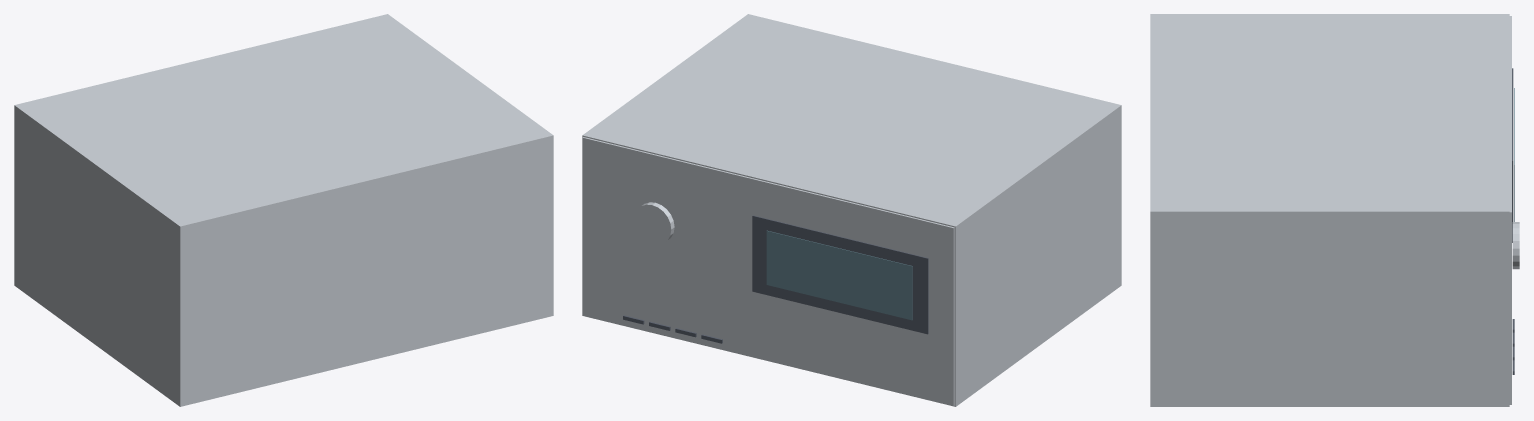
File: wafer.glb
The picture shows the model from 3 angles, left to right: view 1: azimuth 30°, elevation 25°; view 2: azimuth 150°, elevation 25°; view 3: azimuth 270°, elevation 25°; orthographic projection. The views are drawn at different scales.
Visible parts, largest first — view 1: silver enclosure; view 2: silver enclosure, front panel, screen glass, black display bezel, silver rotary control; view 3: silver enclosure, front panel, silver rotary control.
Boxes of the visible parts, x1,y1,x2,y2 form: silver enclosure: (14,14,553,406); silver enclosure: (582,14,1121,406); front panel: (582,137,954,405); screen glass: (766,230,912,320); black display bezel: (752,215,928,334); silver rotary control: (633,202,674,245); silver enclosure: (1150,14,1509,406); front panel: (1509,16,1511,404); silver rotary control: (1512,222,1519,269).
Bounding box in the file's own units: 0.65 × 0.308 × 0.514.
